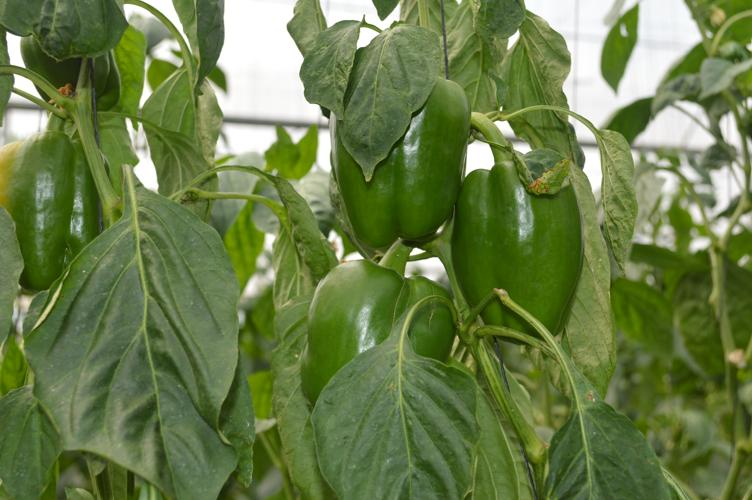BellPepper: (456, 157, 580, 347), (329, 75, 465, 243), (296, 261, 456, 401), (10, 134, 104, 288), (16, 35, 116, 111)
